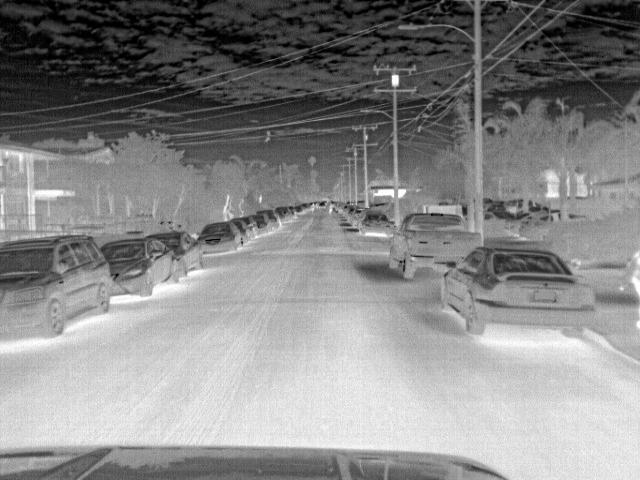car: (438, 246, 598, 343), (1, 237, 113, 347), (386, 212, 479, 279), (97, 239, 177, 297), (138, 228, 205, 273), (195, 221, 239, 254), (518, 211, 558, 239), (483, 208, 512, 235), (502, 211, 537, 233), (361, 213, 391, 237), (349, 206, 369, 227), (234, 216, 256, 235), (256, 211, 279, 228), (272, 205, 292, 224)
person: (617, 248, 639, 328)
